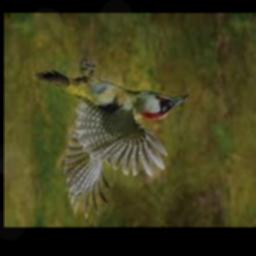Woodpecker: (33, 60, 189, 219)
